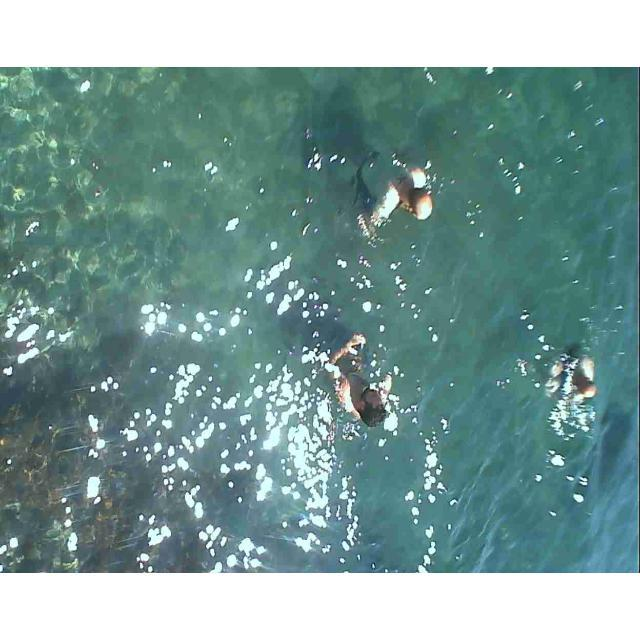human: (349, 140, 438, 252), (322, 318, 395, 441), (549, 338, 600, 415)
